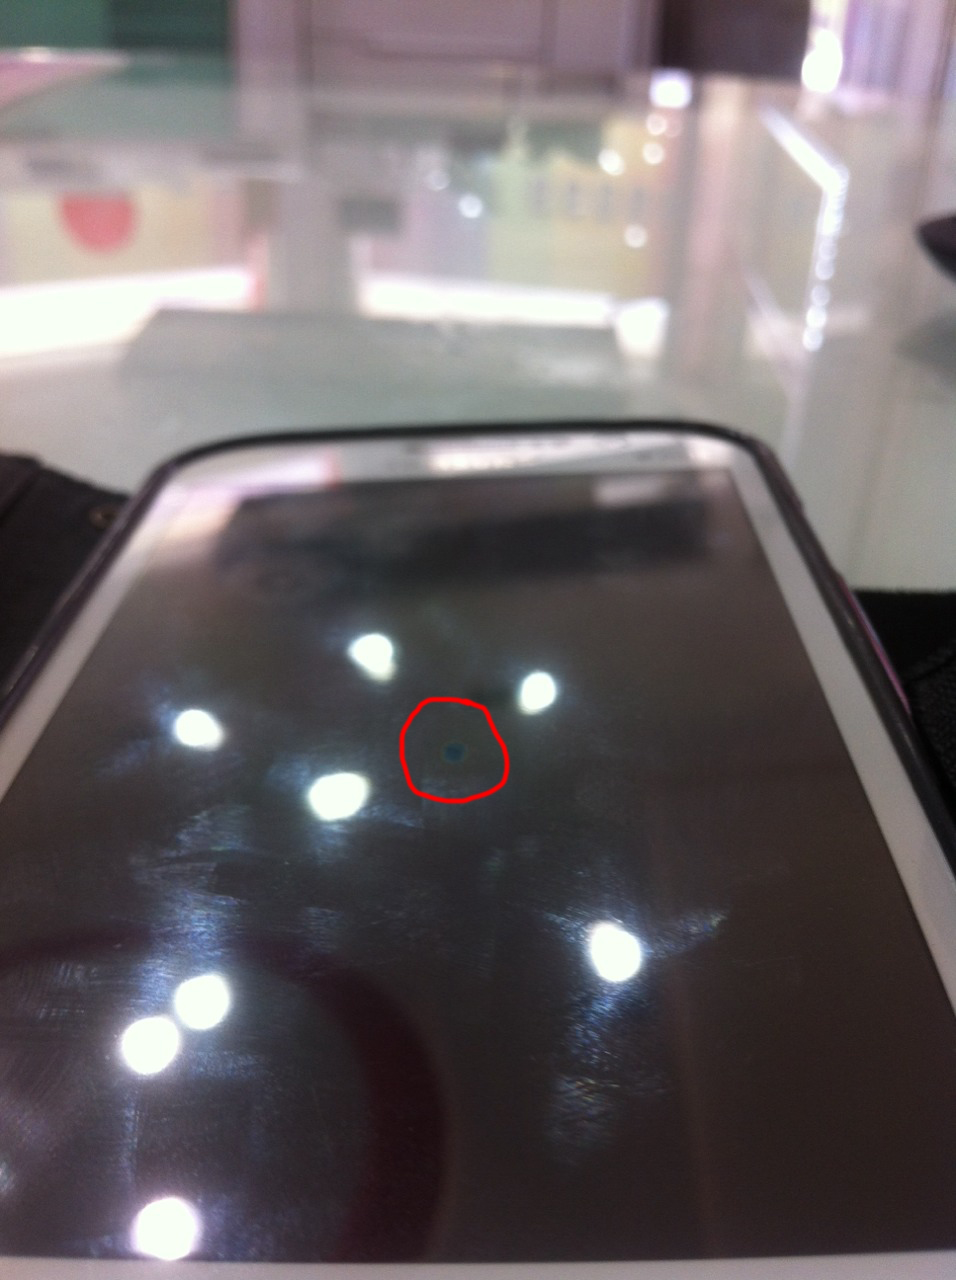Phone: (3, 416, 956, 1280)
